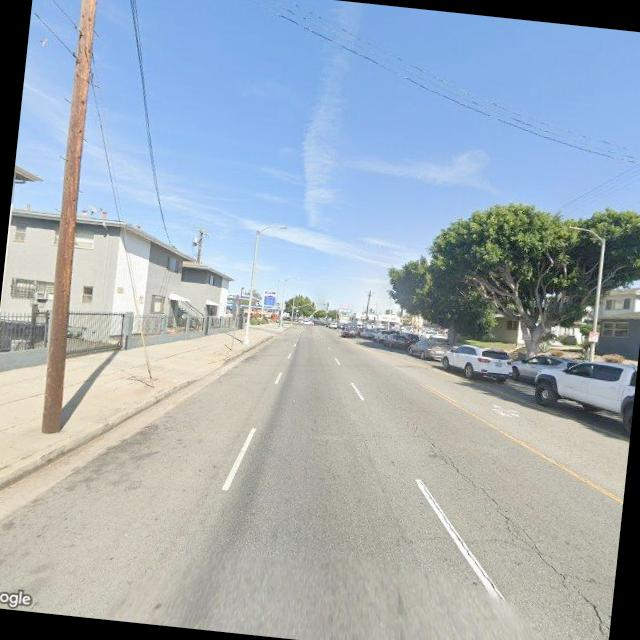pothole: (382, 422, 626, 638), (404, 472, 522, 617)
